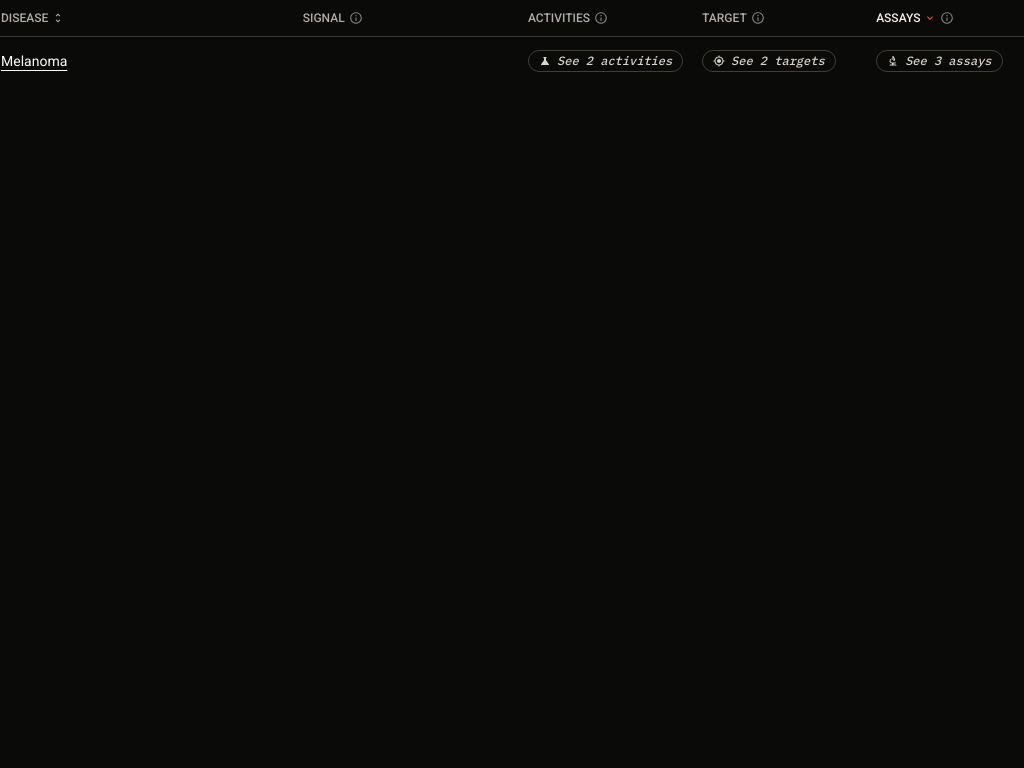
Scenario: activities › states the count on the row and lists them in a modal
expect the link "melanoma" is shown: met, box [1,50,67,70]
What coordinates should you click on to do the following:
click the button "See 2 activities"
I would click on:
 (606, 60)
Its box is [528,50,683,72].
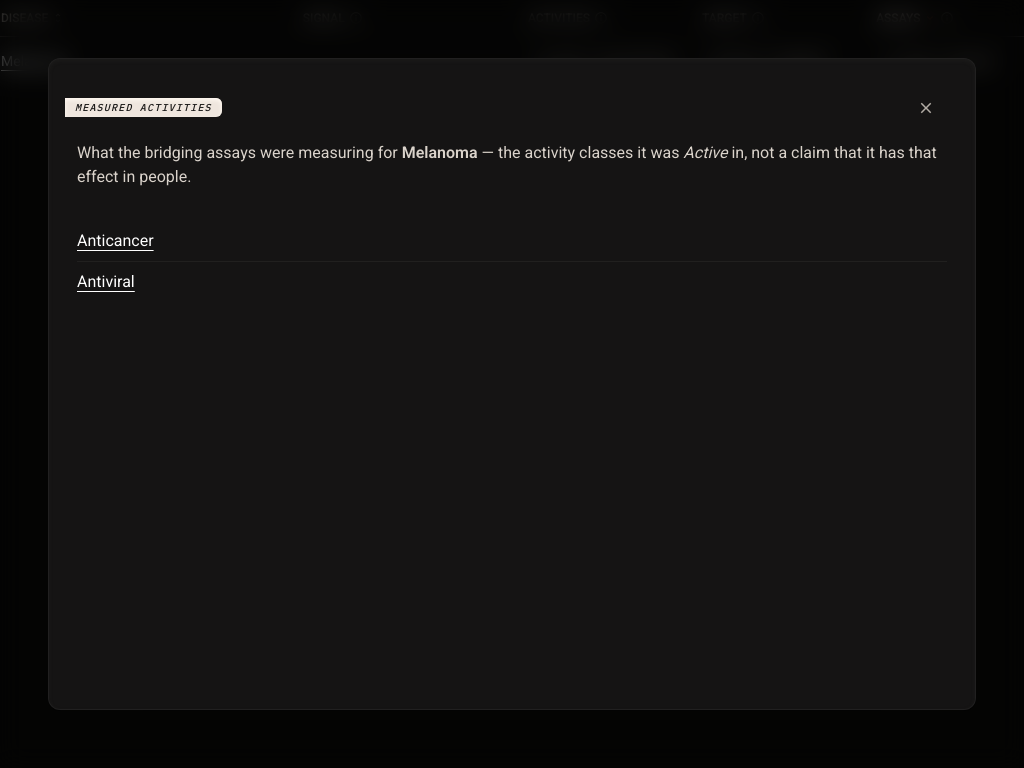
expect the text "anticancer" is shown: met, box [77,231,154,250]
expect the text "antiviral" is shown: met, box [77,272,135,291]
